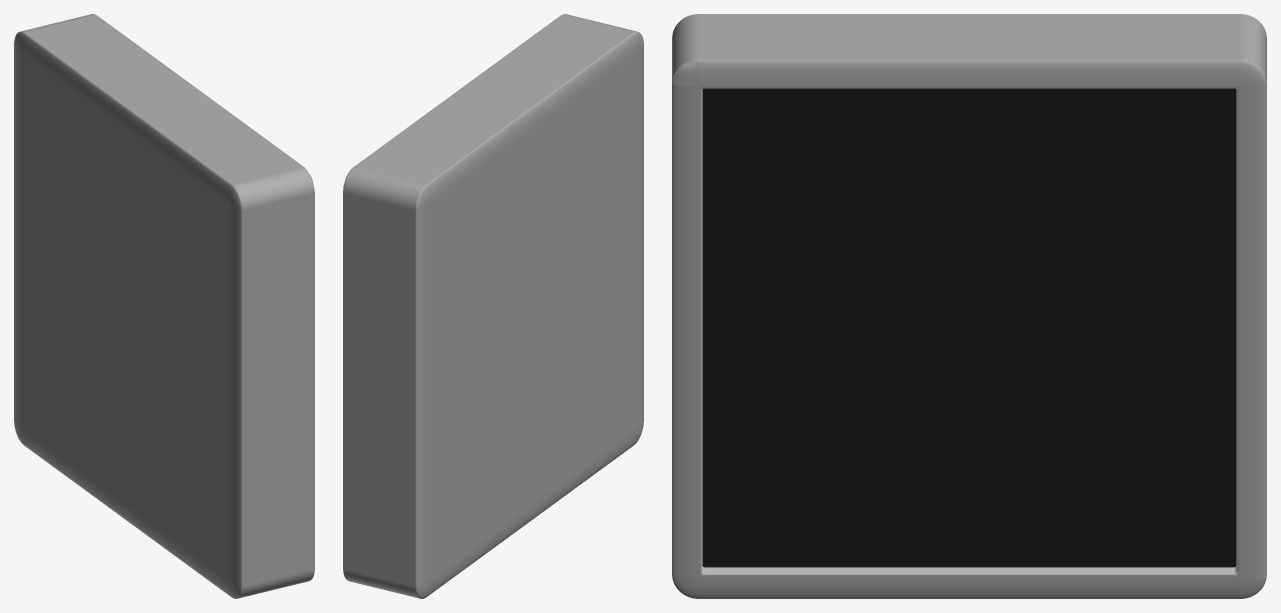
The model's file is monitor.fbx.
3 renders of one model, left to right at view 1: azimuth 30°, elevation 25°; view 2: azimuth 150°, elevation 25°; view 3: azimuth 270°, elevation 25°, orthographic. The views are drawn at different scales.
Parts seen in each view (by area): view 1: Cube; view 2: Cube; view 3: Cube.
Boxes of the visible parts, x1=… form: Cube: x1=14, y1=14, x2=314, y2=598; Cube: x1=343, y1=14, x2=643, y2=598; Cube: x1=672, y1=14, x2=1266, y2=598.
Size of the model in its own units: 40 by 200 by 200.
